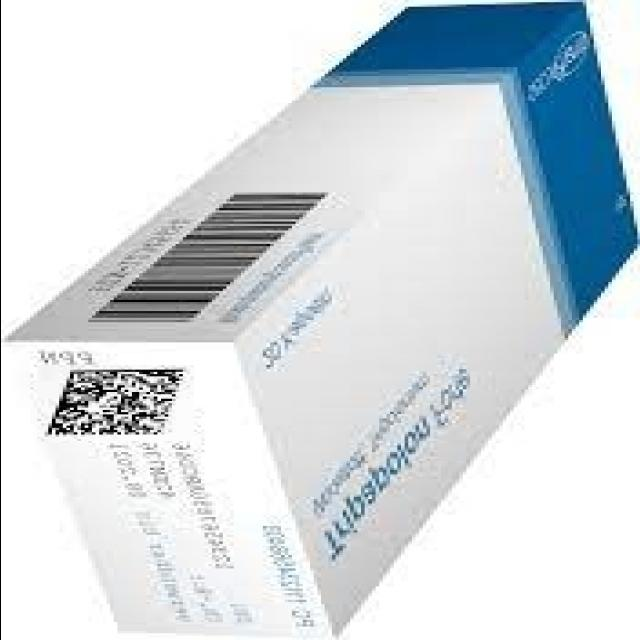DataMatrix: (36, 365, 193, 441)
